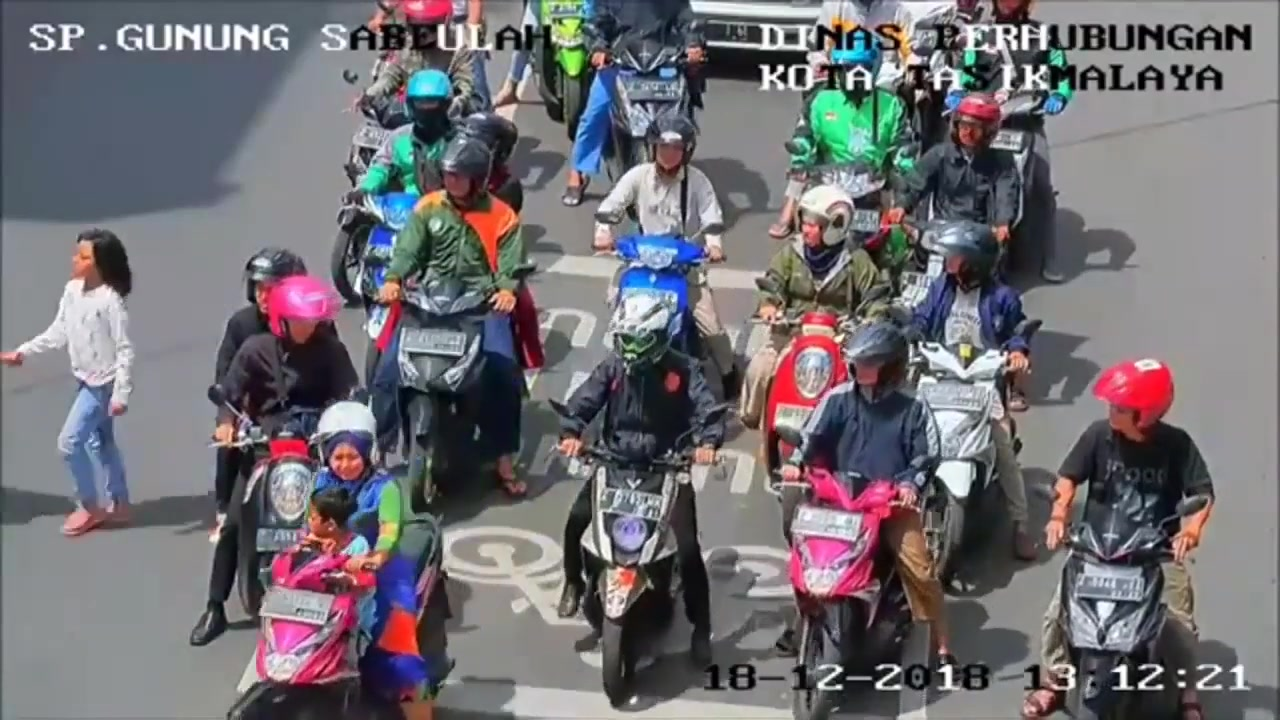person without helm: (63, 208, 149, 313)
person without motorcycle: (2, 215, 185, 549)
